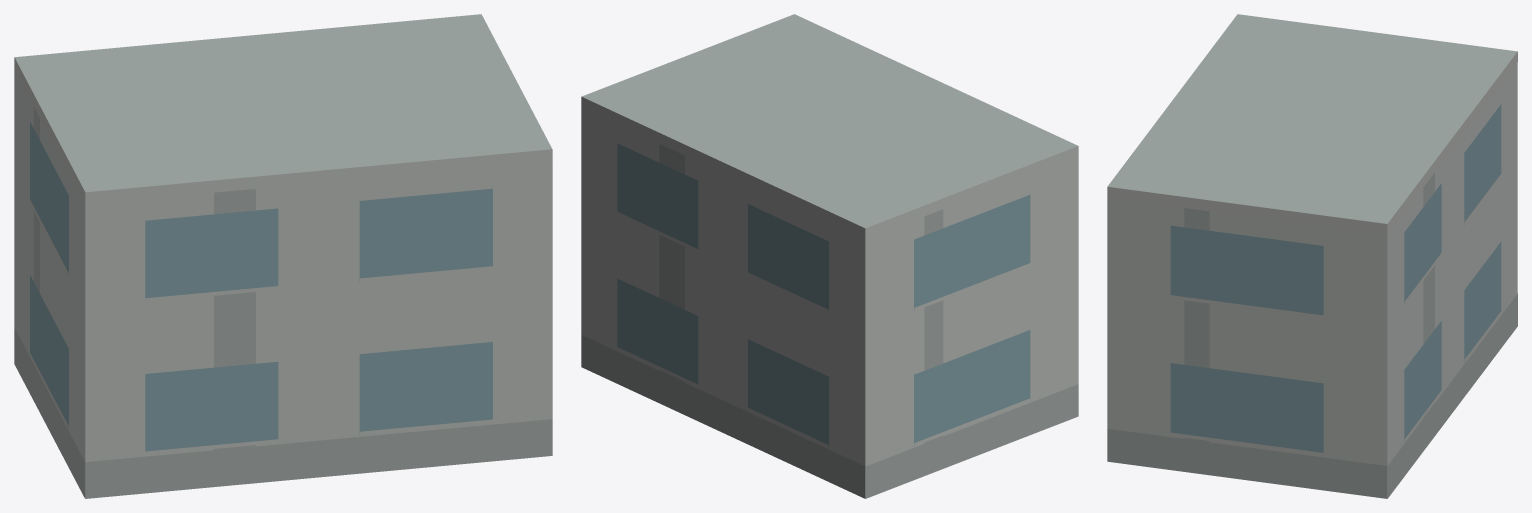
File: survey-upis-32879372.glb
3 renders of one model, left to right at view 1: azimuth 30°, elevation 25°; view 2: azimuth 150°, elevation 25°; view 3: azimuth 270°, elevation 25°, orthographic. The views are drawn at different scales.
Parts seen in each view (by area): view 1: survey-upis-32879372.tmp; view 2: survey-upis-32879372.tmp; view 3: survey-upis-32879372.tmp.
Part boxes in pixels (x1=…): survey-upis-32879372.tmp: x1=14, y1=14, x2=552, y2=498; survey-upis-32879372.tmp: x1=581, y1=14, x2=1078, y2=498; survey-upis-32879372.tmp: x1=1107, y1=14, x2=1517, y2=498.
Size of the model in its own units: 10 by 6.1 by 8.27.
